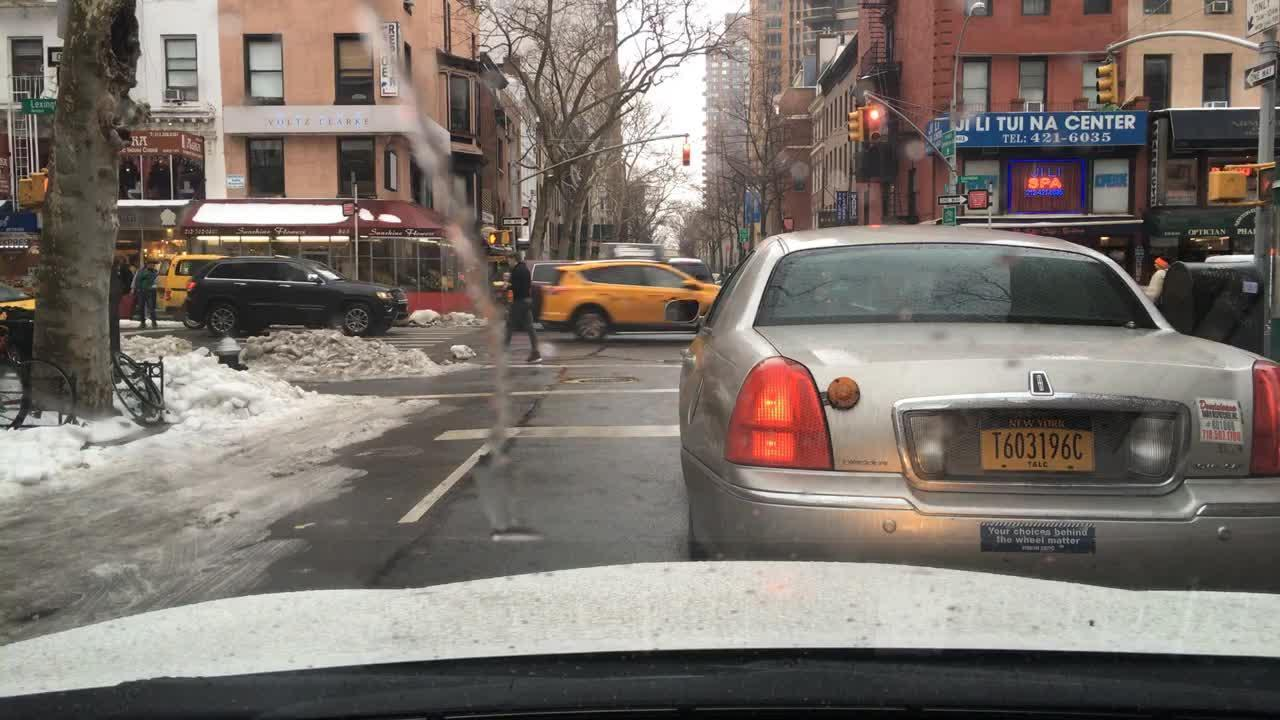lincoln: (1027, 362, 1057, 402)
